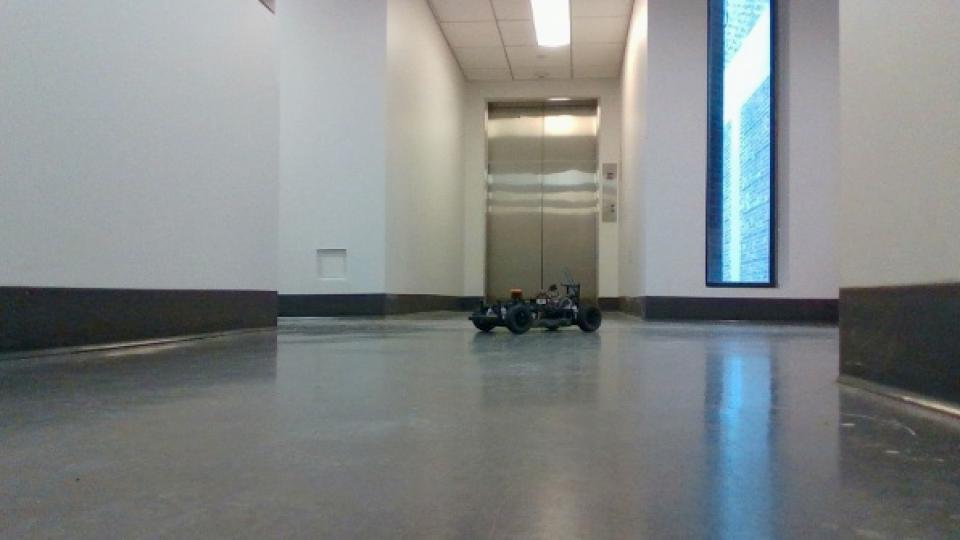car: (467, 267, 606, 338)
